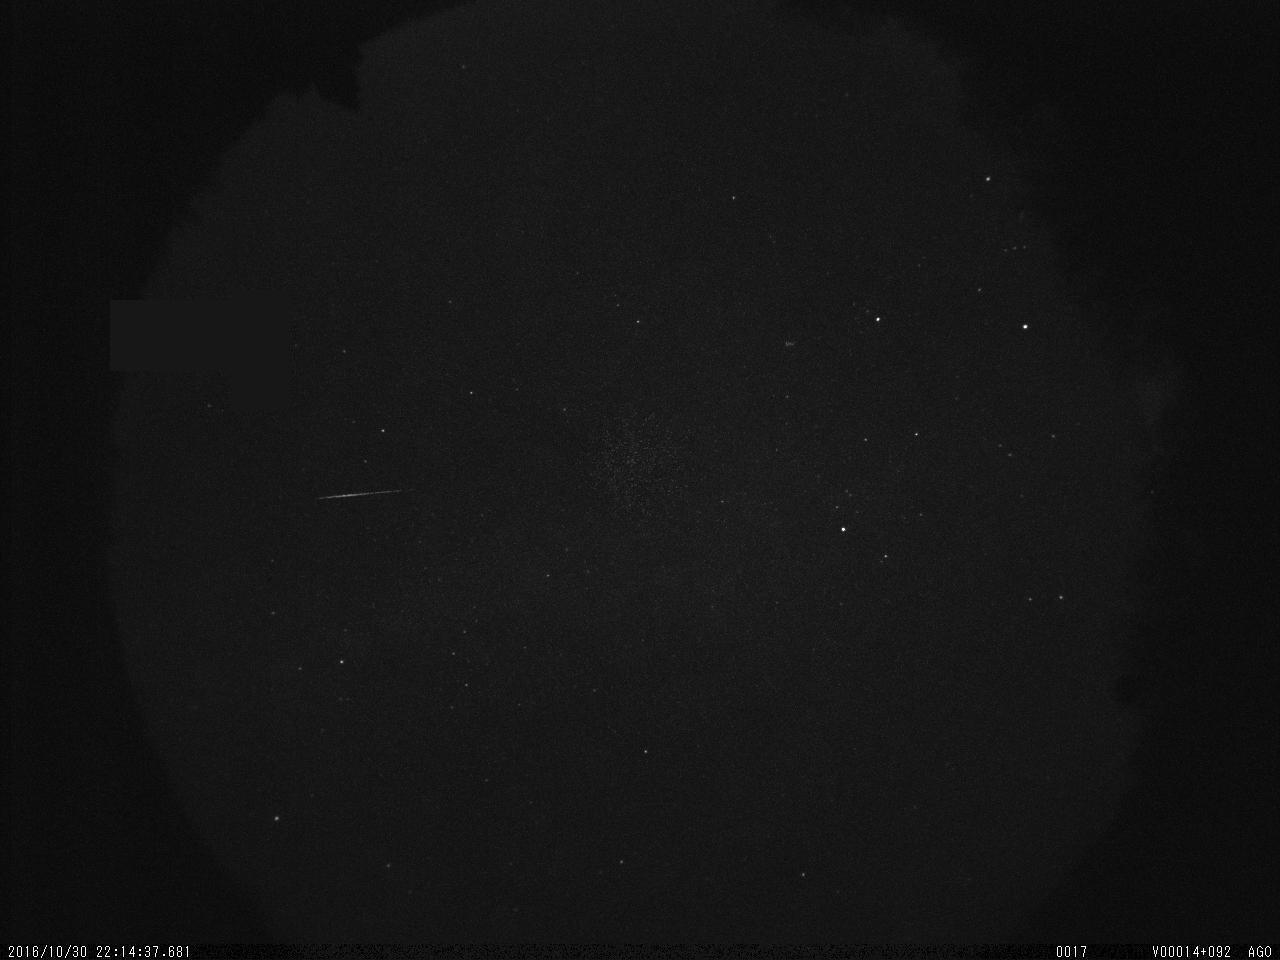meteor: (306, 483, 423, 508)
